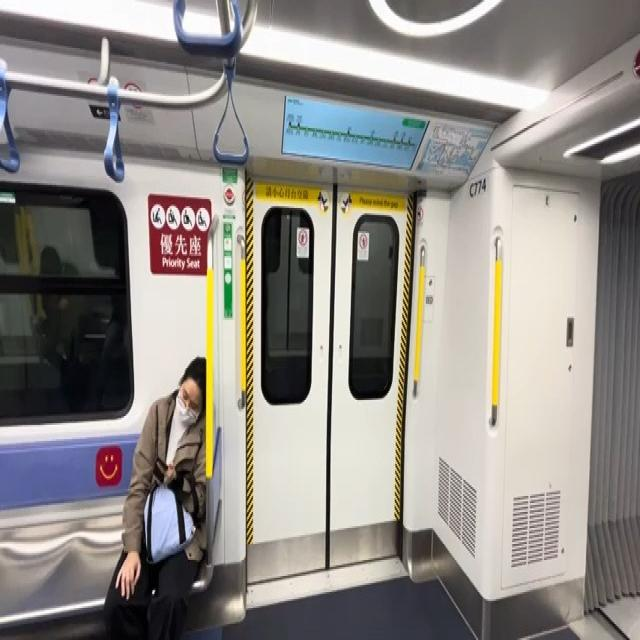bus-door: (246, 173, 409, 582)
